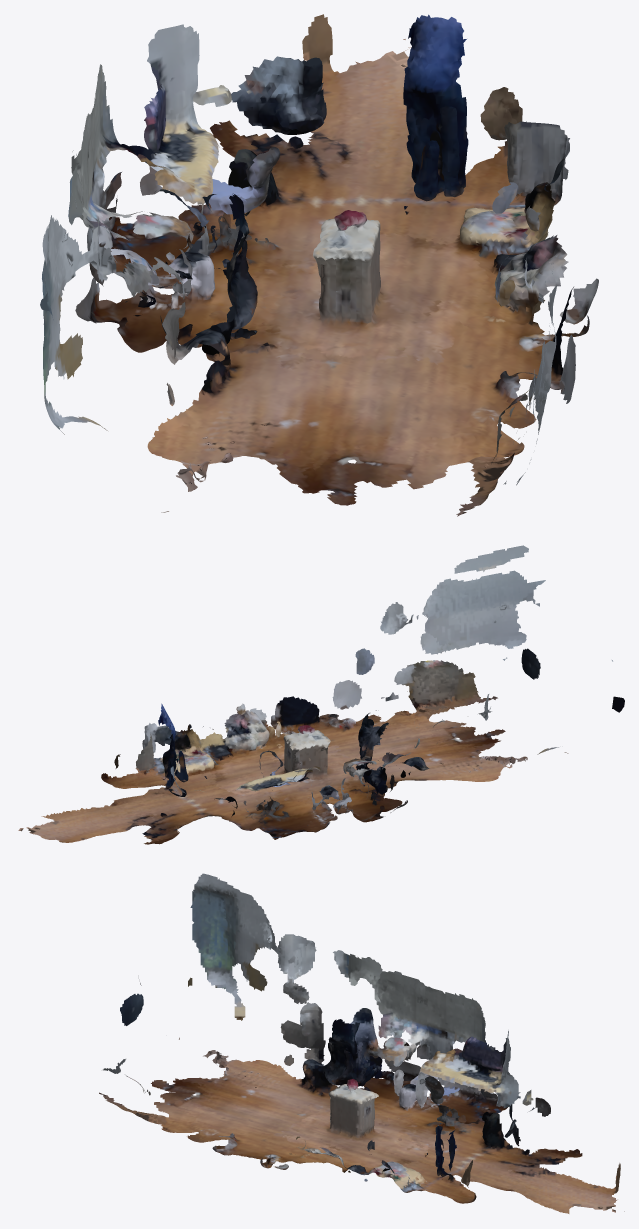
The model's file is color 2.glb.
3 renders of one model, top to bottom at view 1: azimuth 30°, elevation 25°; view 2: azimuth 150°, elevation 25°; view 3: azimuth 270°, elevation 25°, orthographic. The views are drawn at different scales.
Visible parts, largest first — view 1: root; view 2: root; view 3: root.
Part boxes in pixels (bbox=[...]): root: bbox=[40, 14, 598, 516]; root: bbox=[18, 545, 624, 844]; root: bbox=[99, 873, 624, 1213].
Bounding box in the file's own units: 6.61 × 2.31 × 8.65.
